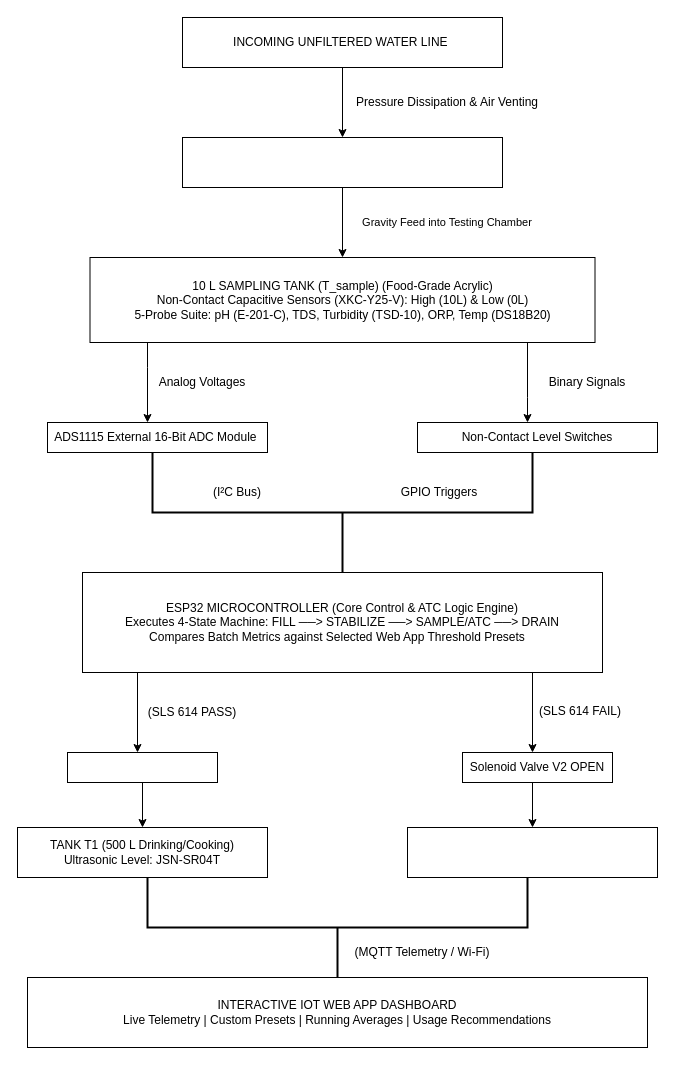
The diagram is 675 pixels wide and 1065 high, and some of its shapes have lost their labels. The centre of each missing label's shape, as x and y in pixels:
"1–2 L STABILIZATION & VENT CHAMBER" belongs at (x=342, y=162).
"Solenoid Valve V1 OPEN" belongs at (x=142, y=767).
"TANK T2 (500 L Secondary Utility) Ultrasonic Level: JSN-SR04T" belongs at (x=532, y=852).
